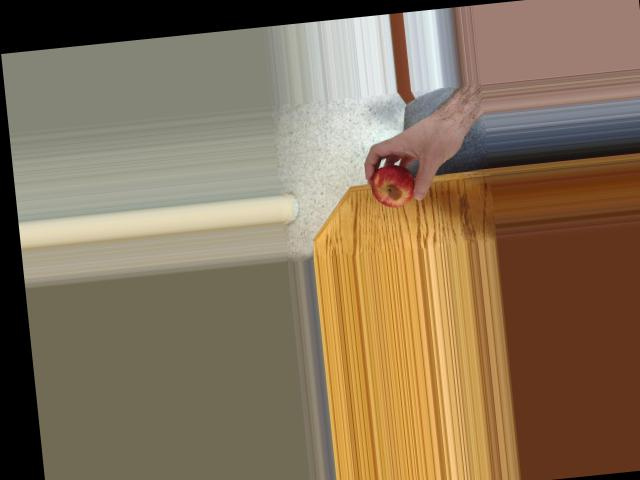apple: (366, 162, 419, 209)
